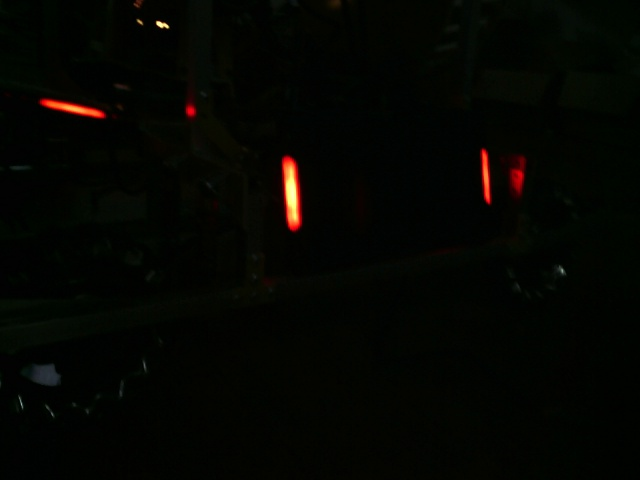lamp: (278, 151, 307, 233), (477, 146, 495, 207)
